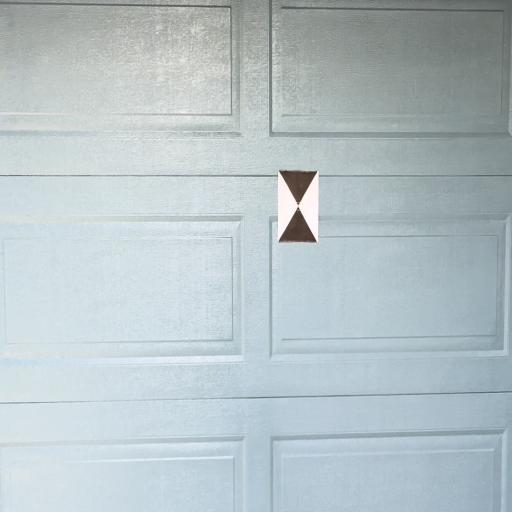target: (278, 170, 320, 242)
